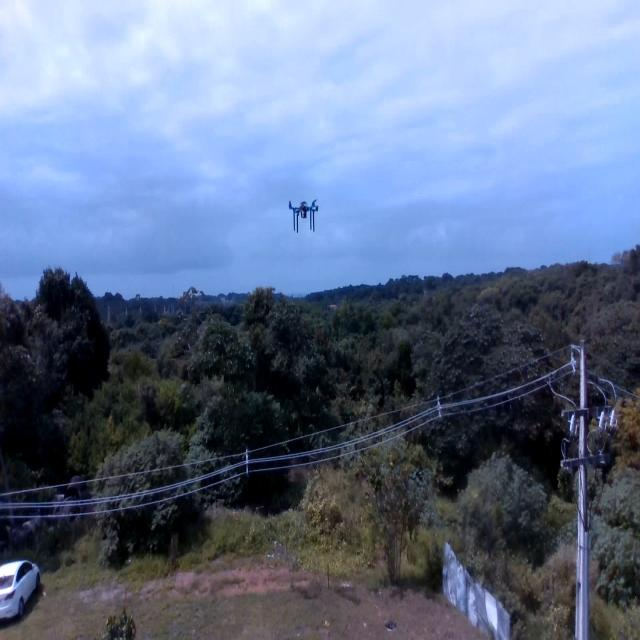-uav-: (283, 191, 324, 240)
